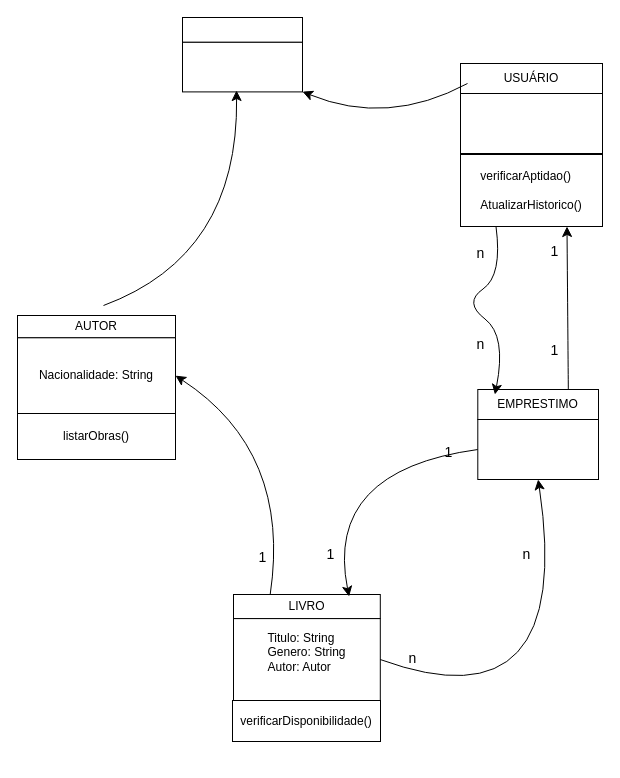
The diagram is 620 pixels wide and 778 high, and some of its shapes have lost their labels. The centre of each missing label's shape, as x and y in pixels:
Data retirada: date Data devolução: date Livro: livro Usuario: Usuario: the point at 537,449
Idade: Int HISTORICOEMPRESTIMO: [ ]: the point at 531,123
Nome: String: the point at 242,66
PESSOA: the point at 242,29
